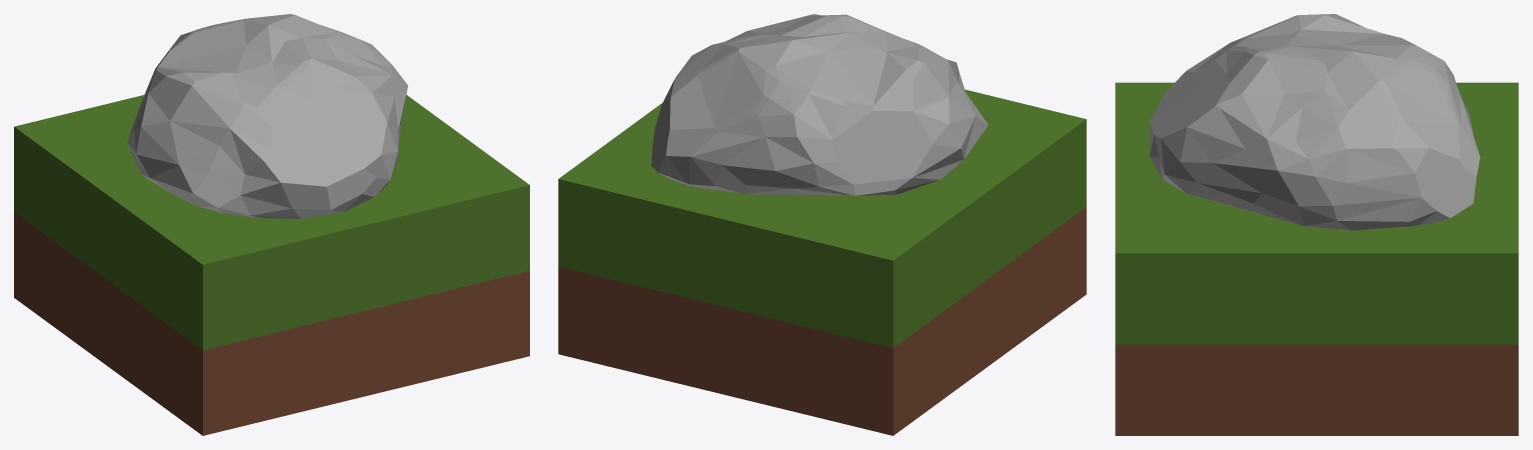
The model's file is Stone.fbx.
The picture shows the model from 3 angles, left to right: view 1: azimuth 30°, elevation 25°; view 2: azimuth 150°, elevation 25°; view 3: azimuth 270°, elevation 25°; orthographic projection. The views are drawn at different scales.
Parts seen in each view (by area): view 1: Empty.001, Stone.001; view 2: Empty.001, Stone.001; view 3: Empty.001, Stone.001.
Part boxes in pixels (x1,y1,x2,y2): Empty.001: (14,95,529,435); Stone.001: (127,14,408,218); Empty.001: (558,89,1086,435); Stone.001: (651,14,988,195); Empty.001: (1115,82,1518,435); Stone.001: (1149,14,1480,230).
Size of the model in its own units: 100 by 83.71 by 100.
